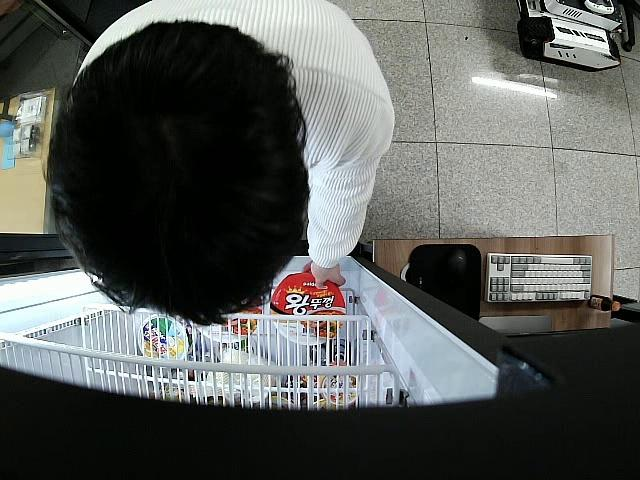00_hand: (300, 257, 348, 291)
10_wangTtukkeong: (269, 273, 346, 345)
